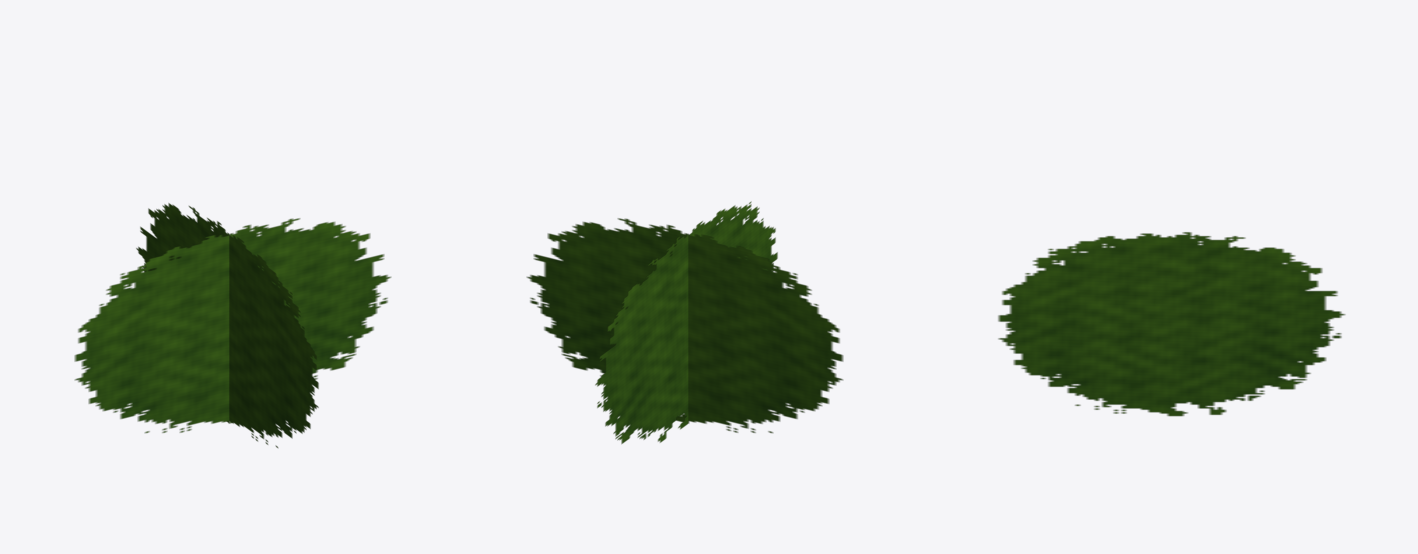
File: bush_impostor.glb
The picture shows the model from 3 angles, left to right: view 1: azimuth 30°, elevation 25°; view 2: azimuth 150°, elevation 25°; view 3: azimuth 270°, elevation 25°; orthographic projection. The views are drawn at different scales.
Parts seen in each view (by area): view 1: Impostor_Bush; view 2: Impostor_Bush; view 3: Impostor_Bush.
Boxes of the visible parts, <box> form: Impostor_Bush: <box>74,203,391,447</box>; Impostor_Bush: <box>526,201,843,443</box>; Impostor_Bush: <box>998,232,1345,416</box>.
Bounding box in the file's own units: 0.85 × 0.65 × 0.85.
1 material, 1 textured.
